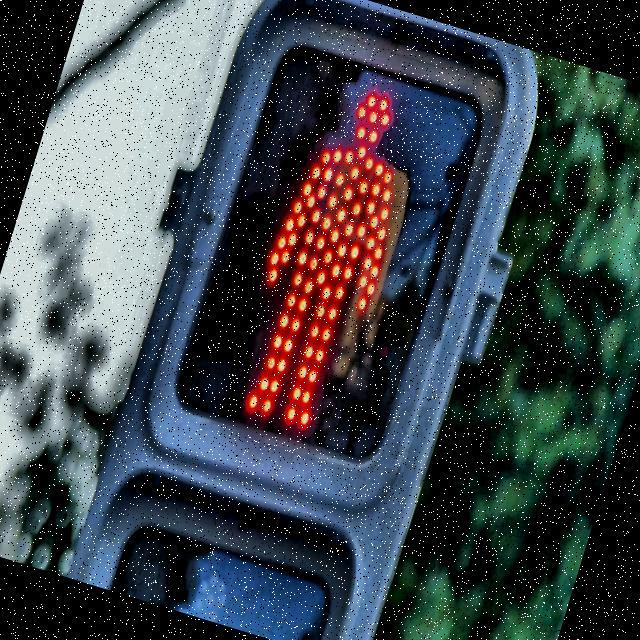red_light: (212, 59, 439, 447)
